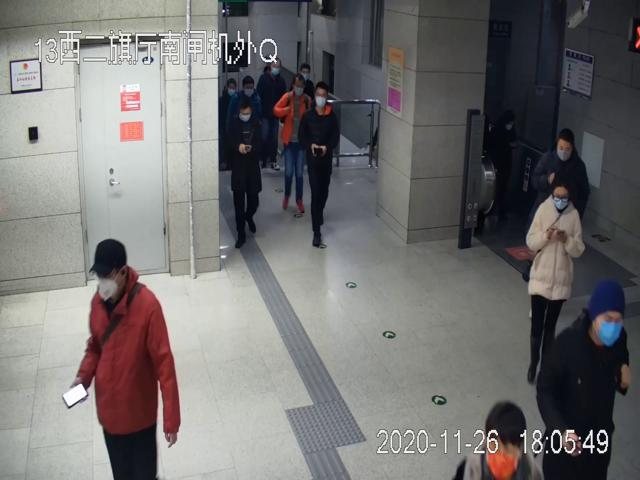person: (74, 240, 180, 476), (533, 277, 633, 480), (526, 177, 584, 387), (298, 81, 338, 250), (273, 73, 311, 213), (228, 98, 263, 249)
